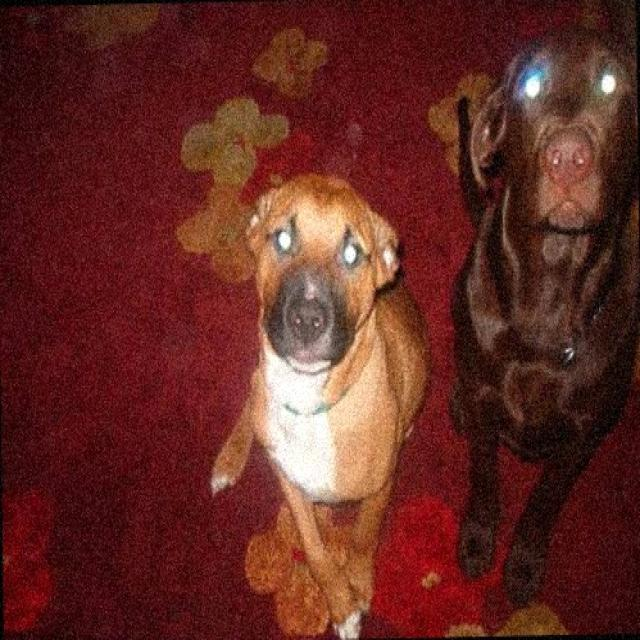sad: (238, 160, 430, 639)
